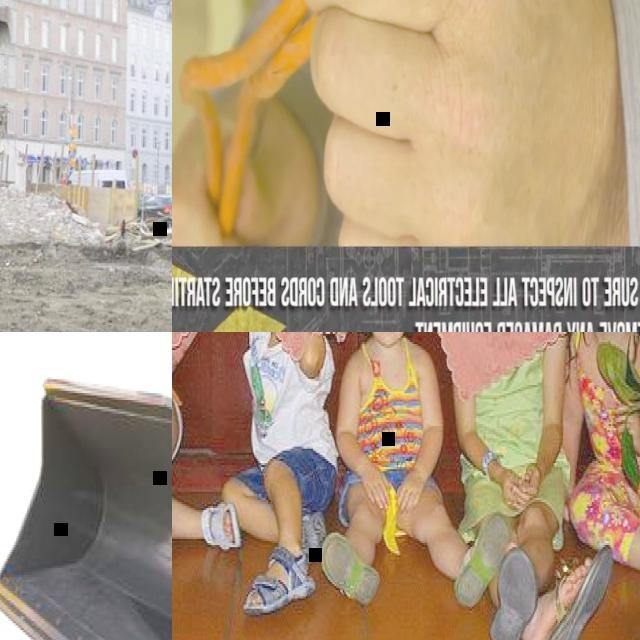NO-Mask: (372, 332, 405, 346)
NO-Safety Vest: (473, 344, 551, 472), (250, 332, 325, 461), (576, 346, 640, 480), (358, 343, 423, 465)
Person: (172, 0, 640, 247), (319, 332, 507, 608), (459, 332, 612, 640), (221, 332, 335, 616), (561, 332, 640, 598), (172, 332, 240, 555)
machinery: (0, 332, 172, 640)
vehicle: (137, 192, 172, 230), (68, 168, 126, 189)
